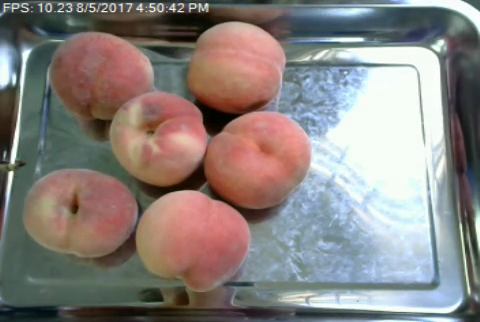Peach: (136, 189, 248, 290), (205, 110, 310, 210), (22, 168, 138, 257), (105, 89, 209, 186), (47, 30, 155, 122), (186, 20, 284, 113)
